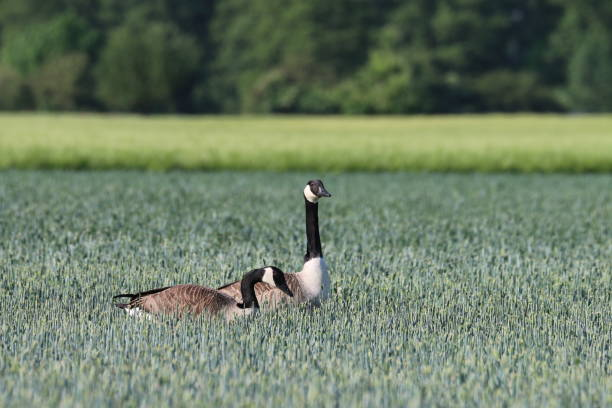goose: (214, 177, 339, 314), (97, 264, 296, 330)
